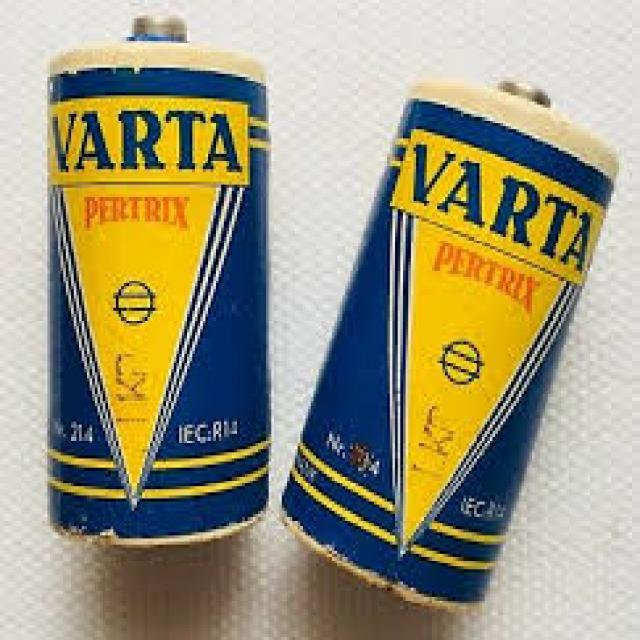battery: (280, 84, 622, 623), (48, 13, 270, 549)
